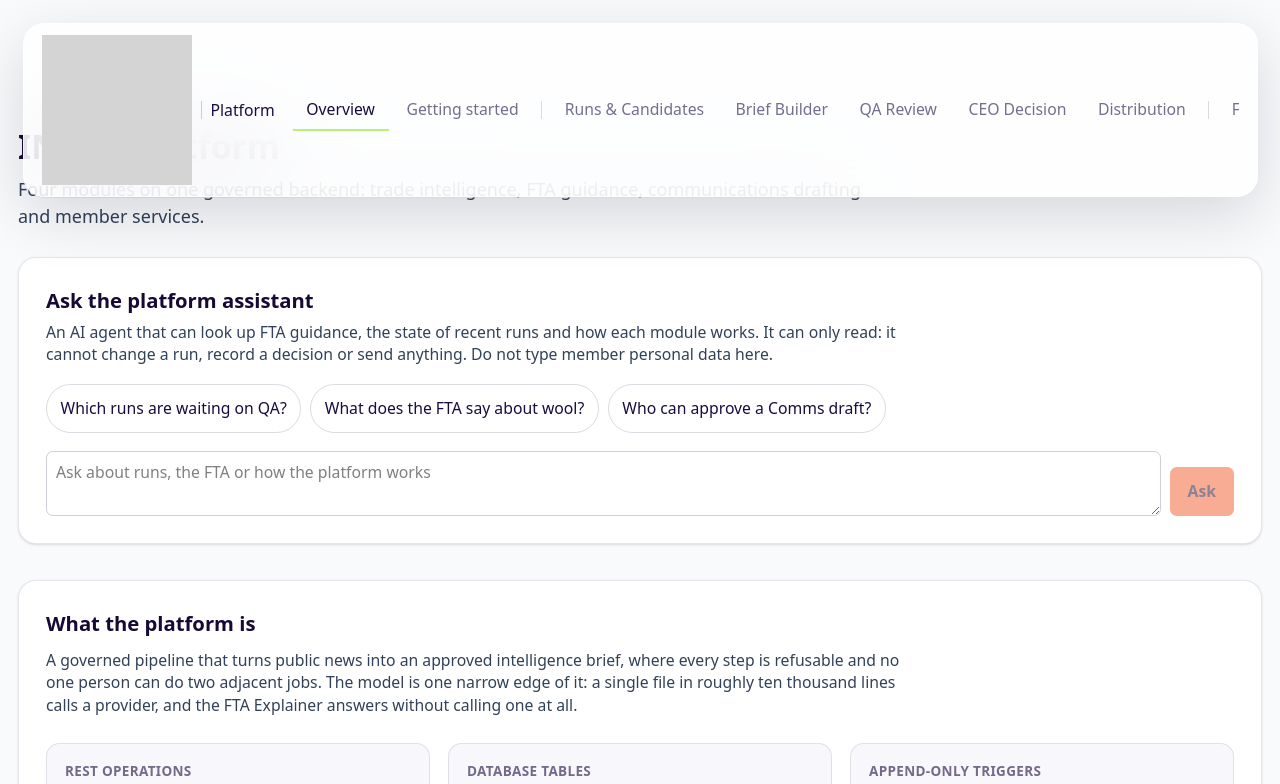
Test: AppShell › opens on the platform overview
Expected: the heading "INZBC Platform" is shown, [18, 123, 280, 169]
Step 1. Click the button "Brief Builder" → (782, 110), box [722, 88, 842, 131]
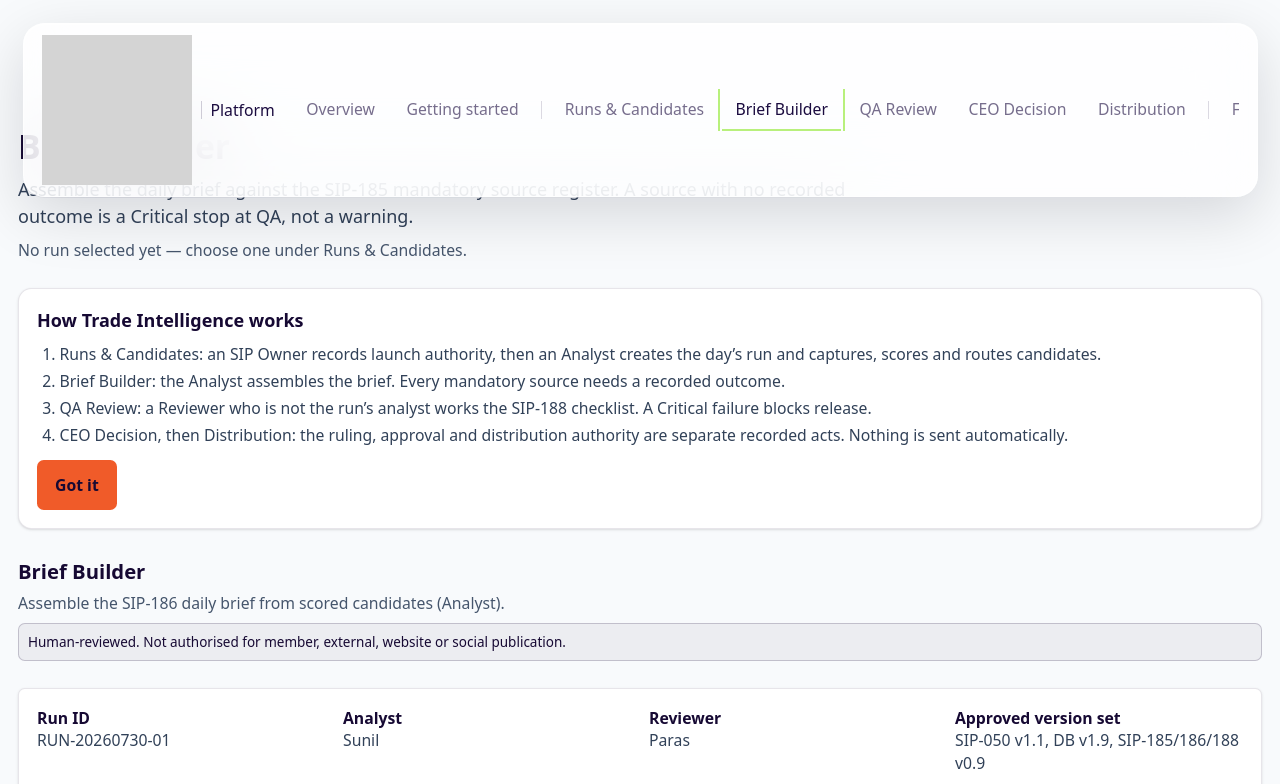
Expected: the 1st heading "Brief Builder" is shown, [18, 123, 230, 169]
